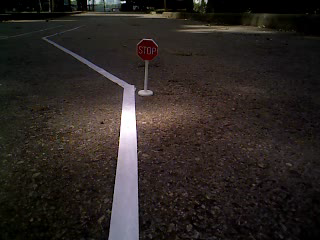Stop: (135, 37, 161, 63)
